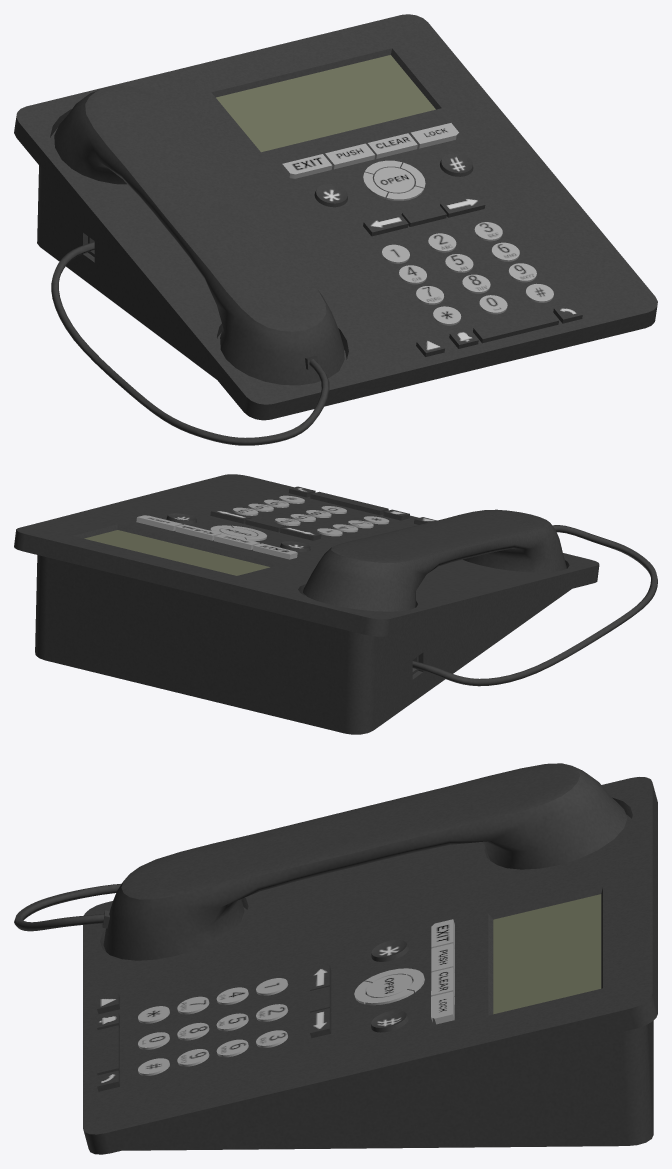
File: phone.glb
3 views of the same model, one above another, from view 1: azimuth 30°, elevation 25°; view 2: azimuth 150°, elevation 25°; view 3: azimuth 270°, elevation 25° (orthographic). The views are drawn at different scales.
Visible parts, largest first — view 1: Sm_Phone02T; view 2: Sm_Phone02T; view 3: Sm_Phone02T.
Boxes of the visible parts, <box> form: Sm_Phone02T: <box>14,14,657,445</box>; Sm_Phone02T: <box>14,474,657,734</box>; Sm_Phone02T: <box>14,763,657,1154</box>.
Size of the model in its own units: 0.3009 by 0.101 by 0.3047.
1 material, 1 textured.
